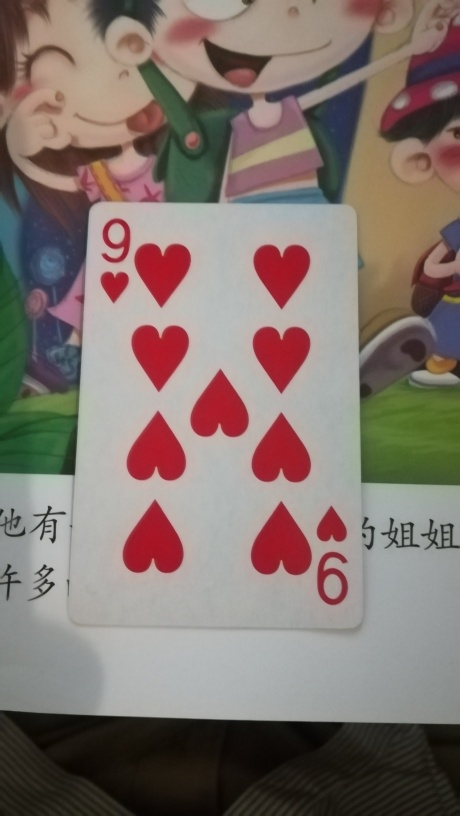hx 9: (70, 199, 367, 633)
